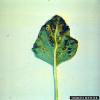Tomato leaf bacterial spot: (31, 13, 81, 68)
